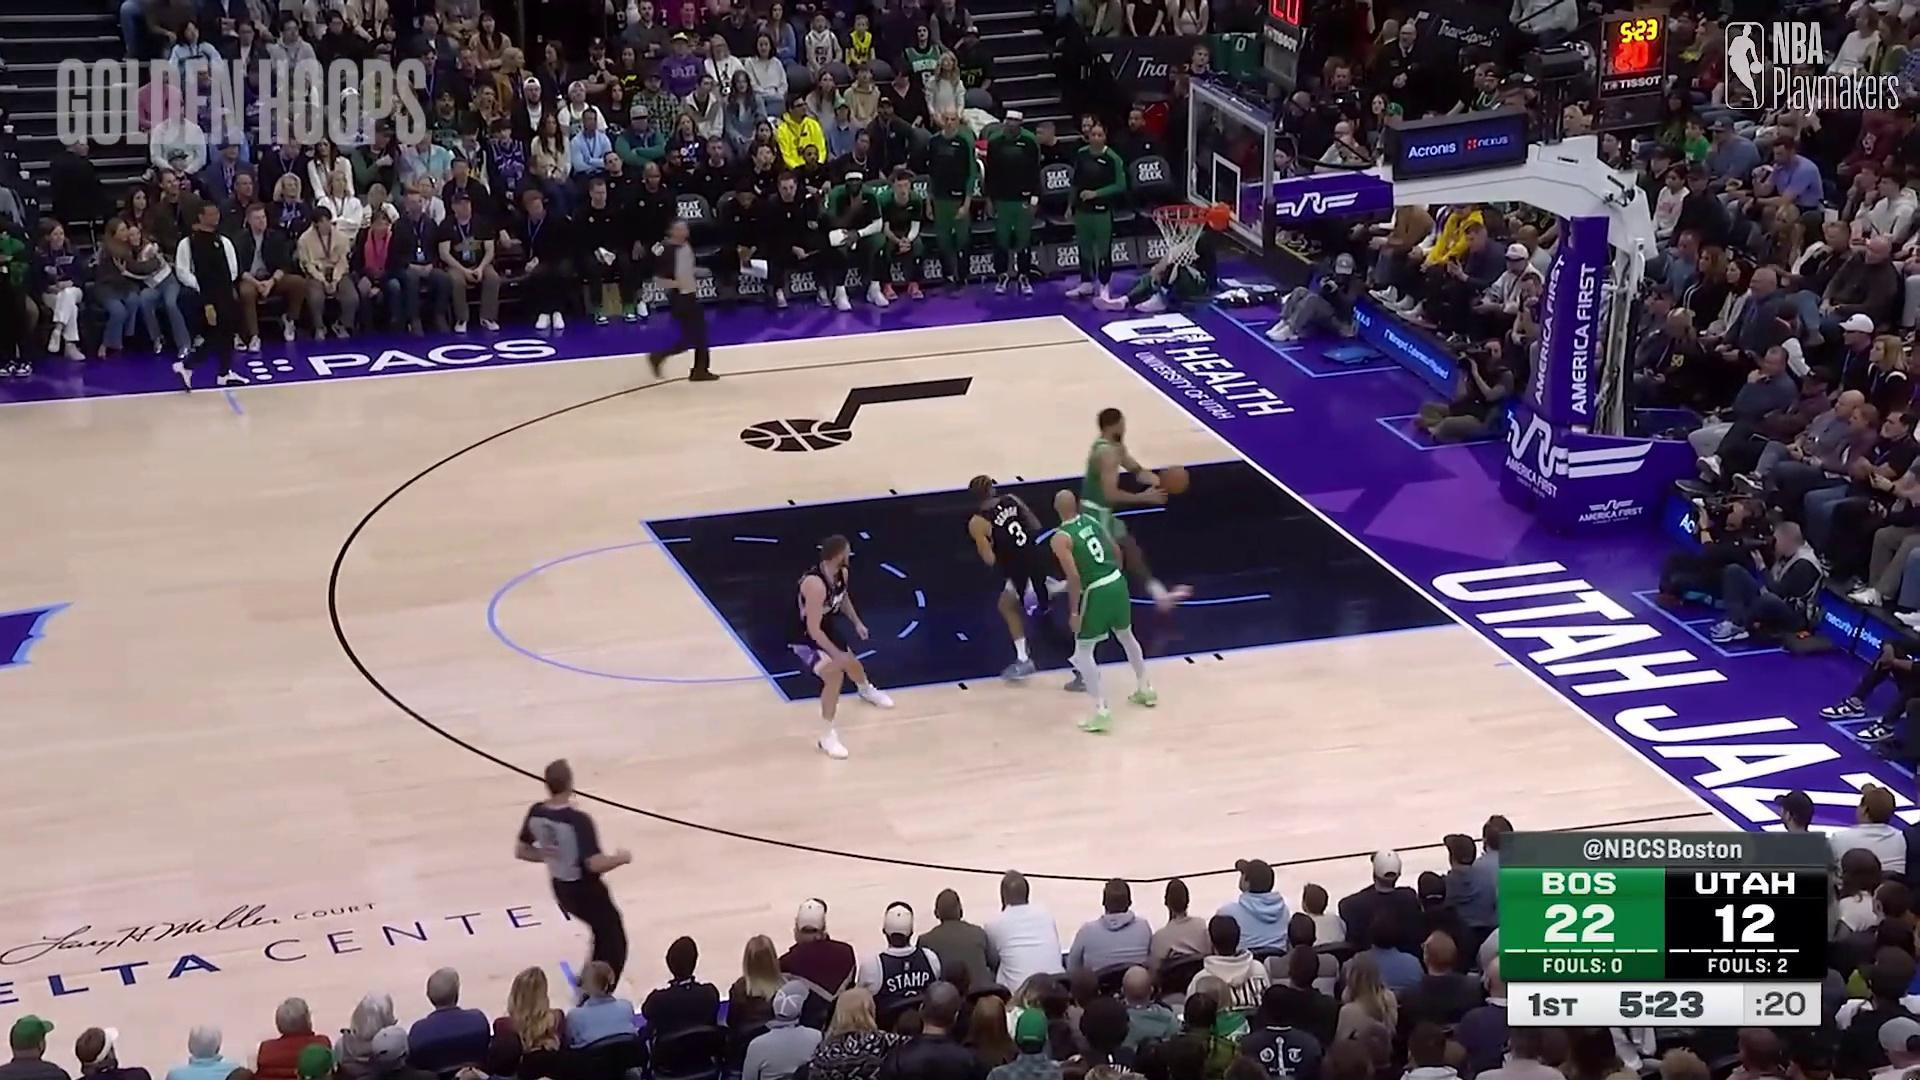ball: (1154, 464, 1192, 496)
hoop: (1149, 196, 1209, 264)
